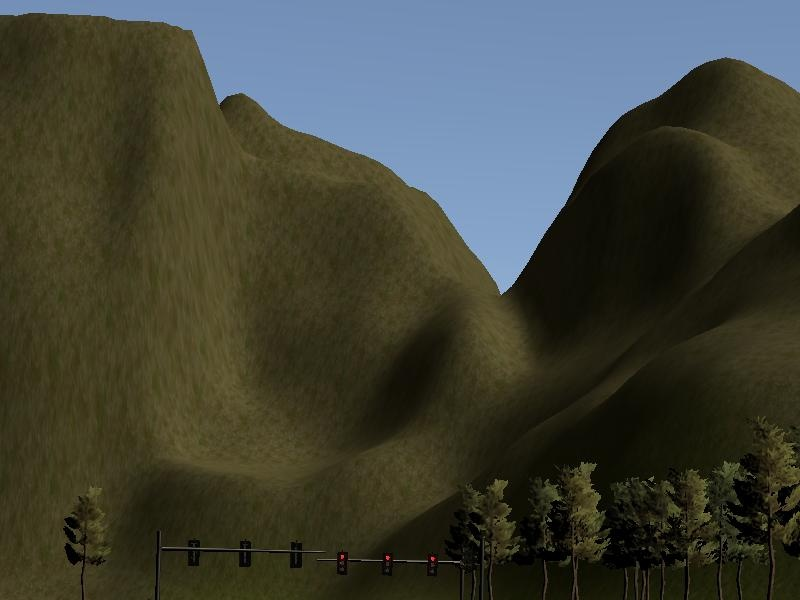red: (423, 551, 441, 579), (379, 551, 395, 579), (335, 549, 349, 575)
